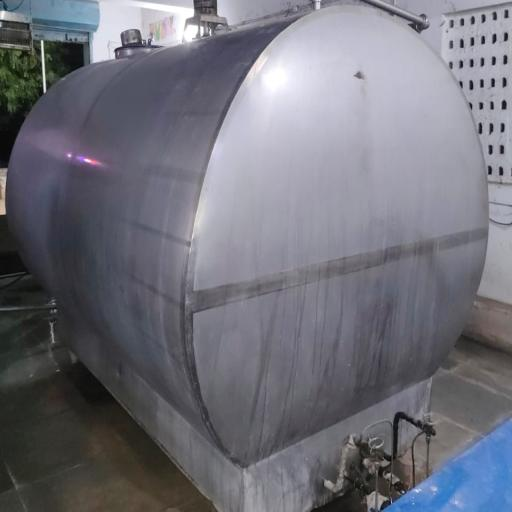silo: (3, 1, 492, 511)
